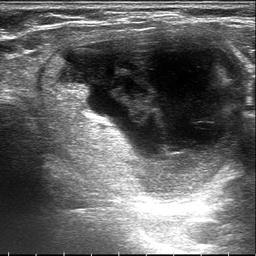mass: (39, 36, 249, 199)
